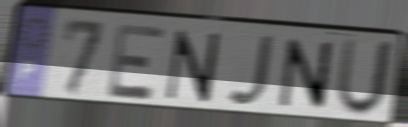7: (61, 16, 106, 100)
E: (105, 21, 169, 103)
J: (225, 33, 277, 109)
N: (162, 28, 224, 105), (277, 36, 335, 112)
U: (333, 35, 399, 120)
